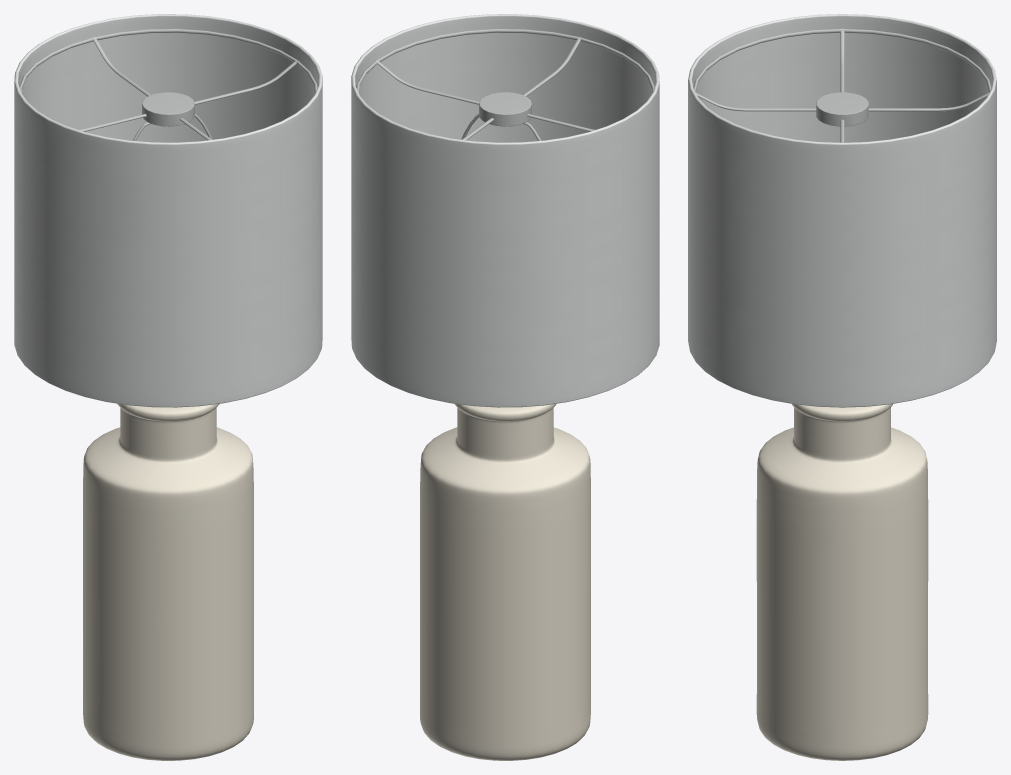
File: abo-B07MF1RQV5.glb
The picture shows the model from 3 angles, left to right: view 1: azimuth 30°, elevation 25°; view 2: azimuth 150°, elevation 25°; view 3: azimuth 270°, elevation 25°; orthographic projection.
Size of the model in its own units: 0.212 by 0.493 by 0.212.
Materials: 1 (1 with a texture image).
